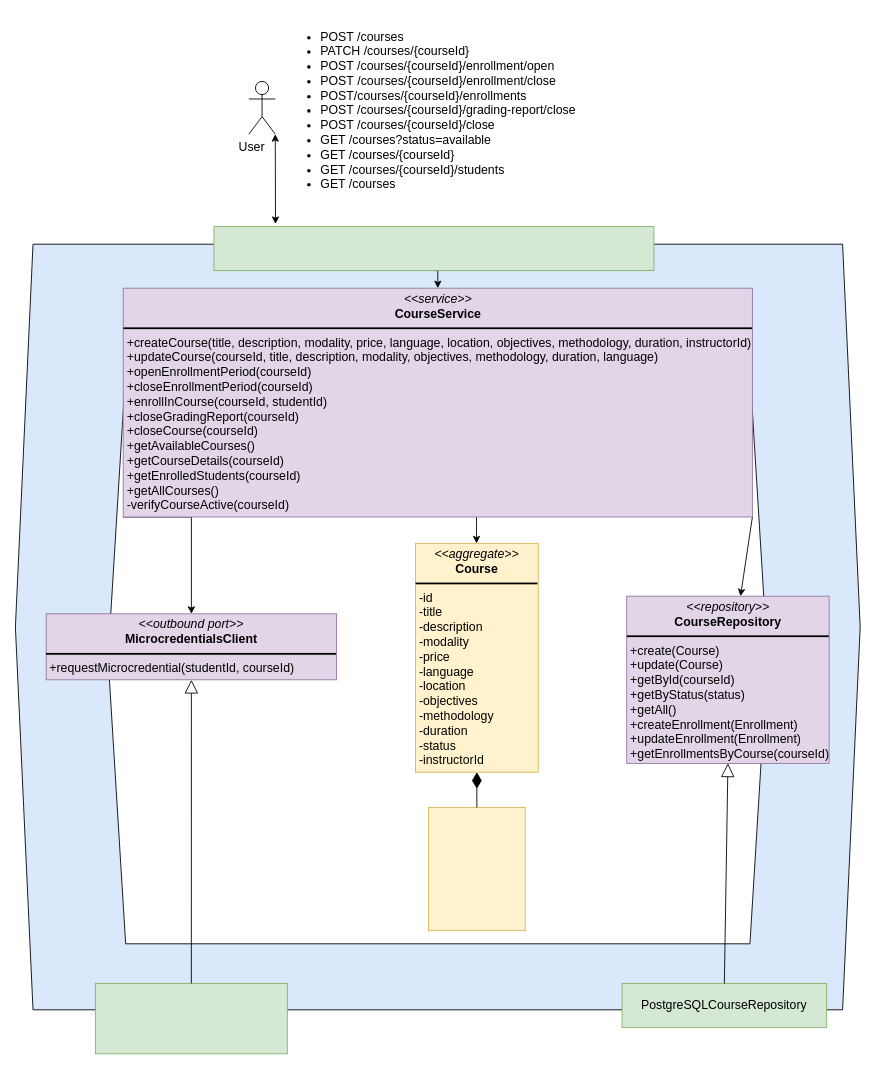
Some shapes in this 876 by 1069 pixel diagram are drawn without their labels. The shapes that lost their labels are listed below. From the top down, each one's box as (x1, y1, x2, y2) in pixels, then its label:
(213, 226, 654, 271): CourseREST Controller
(428, 807, 525, 931): Enrollment id studentId courseId enrollmentDate status grade
(95, 983, 287, 1054): MicrocredentialsRESTAdapter POST /microcredentials/request
